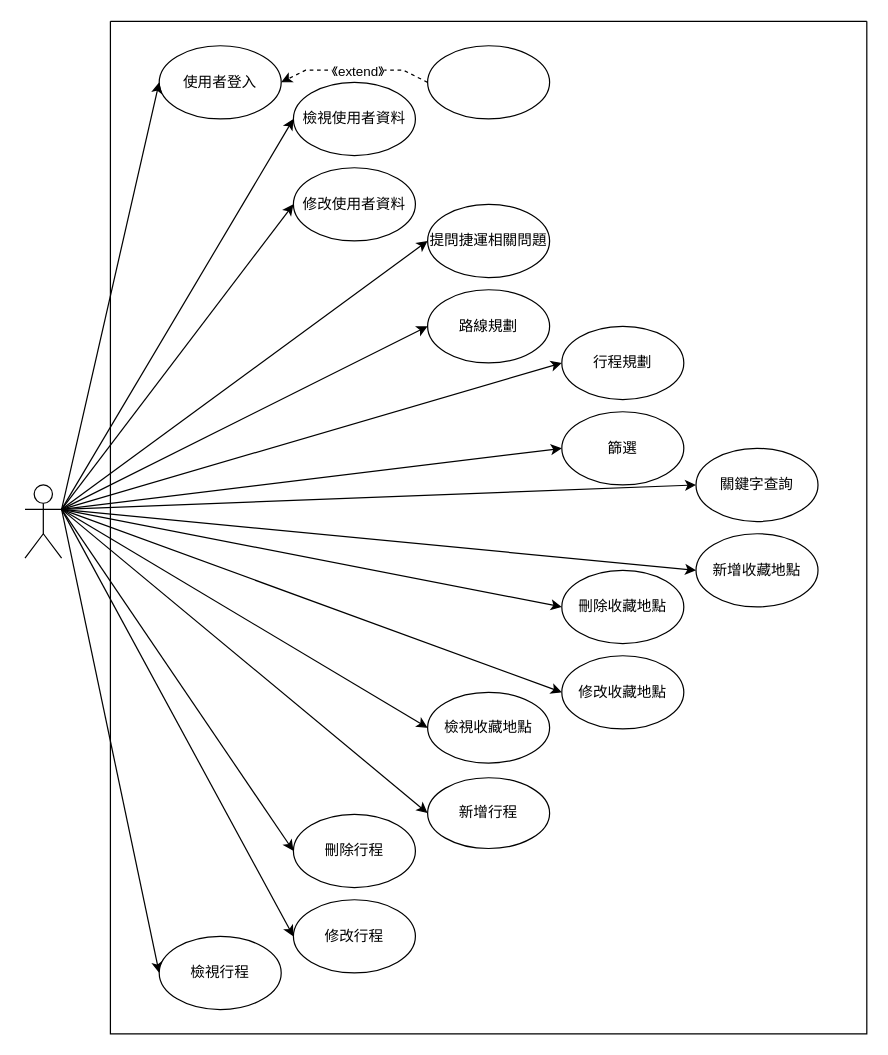
This 888x1055 diagram has some shape labels left out. The shapes that lost their labels are listed below. From the top down, each one's centre as x and y in pixels, then its label:
the point at 488,82: Google登入驗證
the point at 43,521: 使用者
